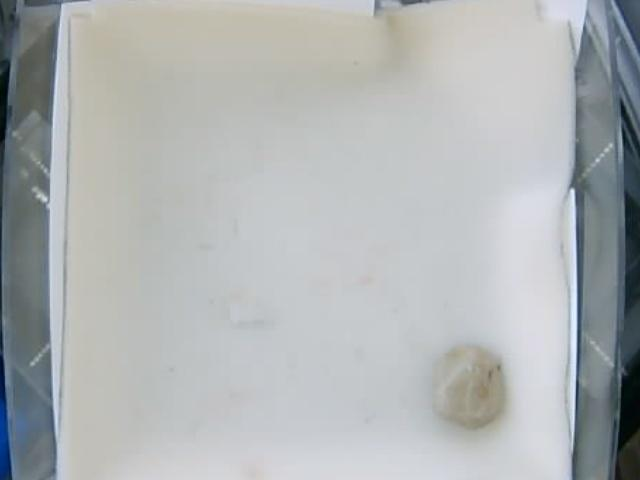Pebble: (432, 343, 504, 431)
